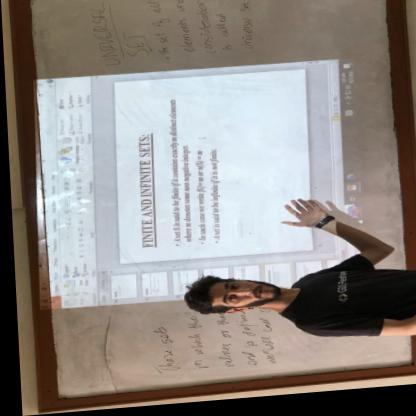Handwritten text: (79, 4, 120, 75), (143, 324, 179, 380), (230, 1, 264, 56), (180, 317, 203, 380), (230, 316, 253, 377), (120, 29, 148, 66), (213, 12, 234, 57), (205, 344, 234, 376)
Lecturer: (176, 226, 416, 357)
